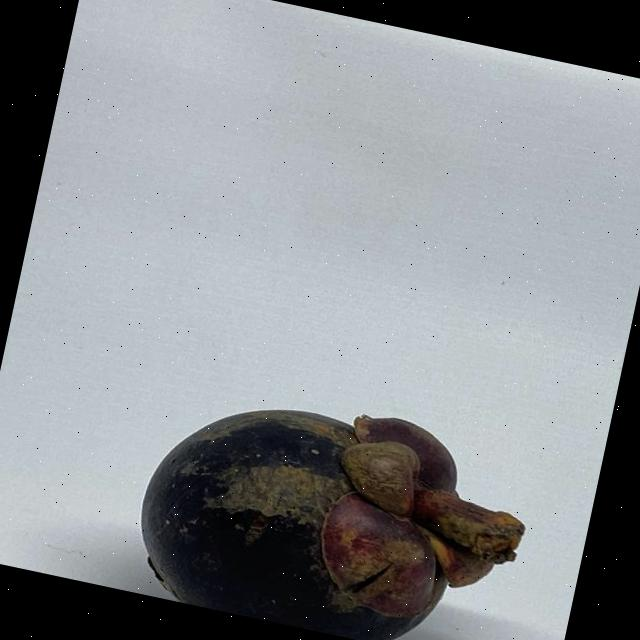mangosteen: (92, 325, 540, 640)
